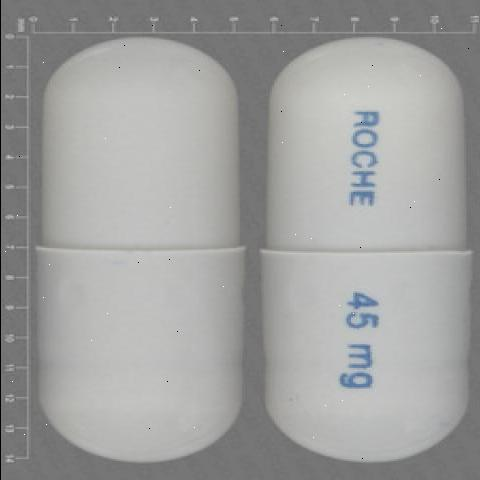Pill: (22, 22, 264, 480), (253, 23, 476, 468)
